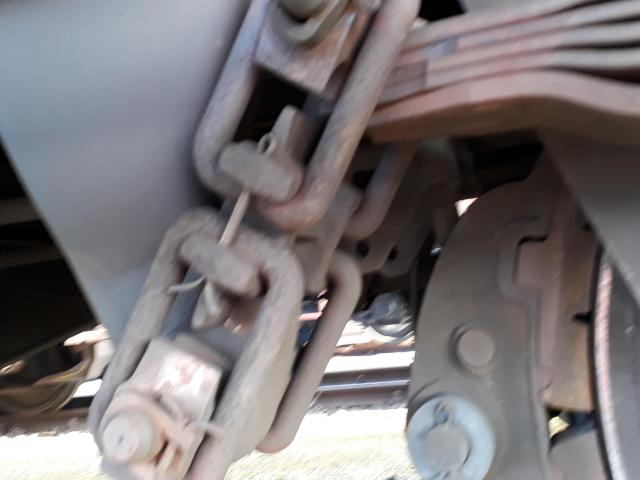blattfederww: (341, 29, 640, 123)
